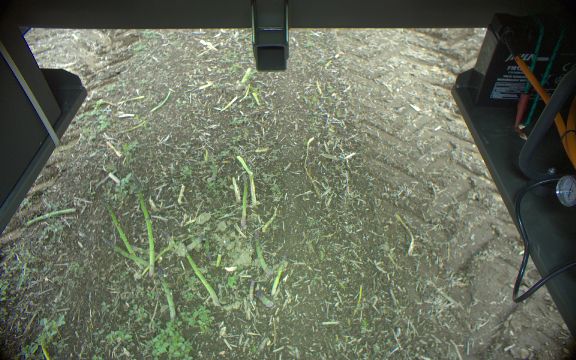aspa: (178, 247, 223, 308), (105, 198, 142, 267), (133, 192, 156, 279), (98, 236, 151, 269), (155, 267, 177, 320), (249, 228, 271, 274), (237, 172, 250, 230), (270, 254, 288, 294), (254, 288, 271, 310), (245, 280, 257, 304)
